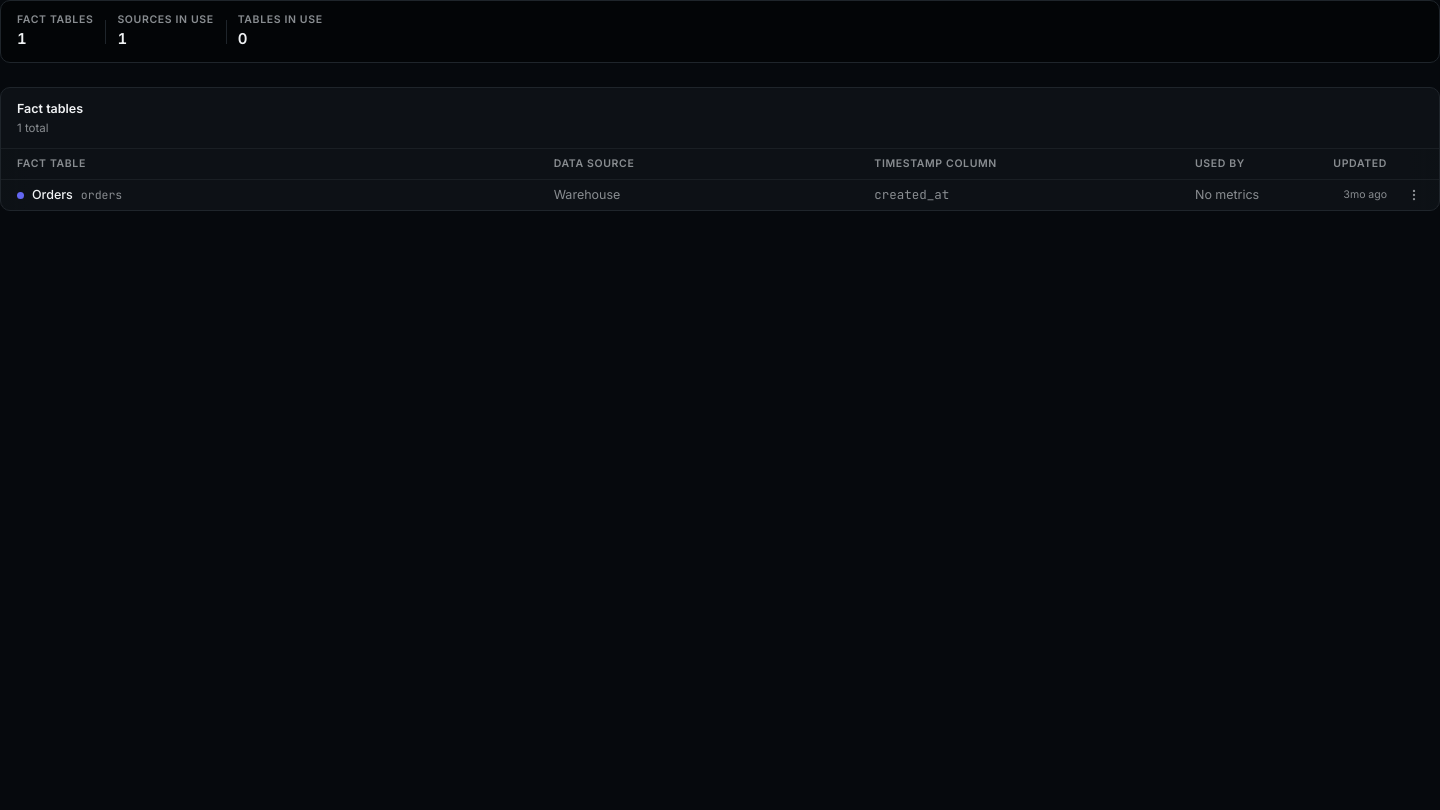
Test: FactTablesList rows (MT-30) › deletes a table from its row menu after a confirm, without opening it
Press Enter in the button named "Actions for Orders", box [1405, 186, 1423, 204]
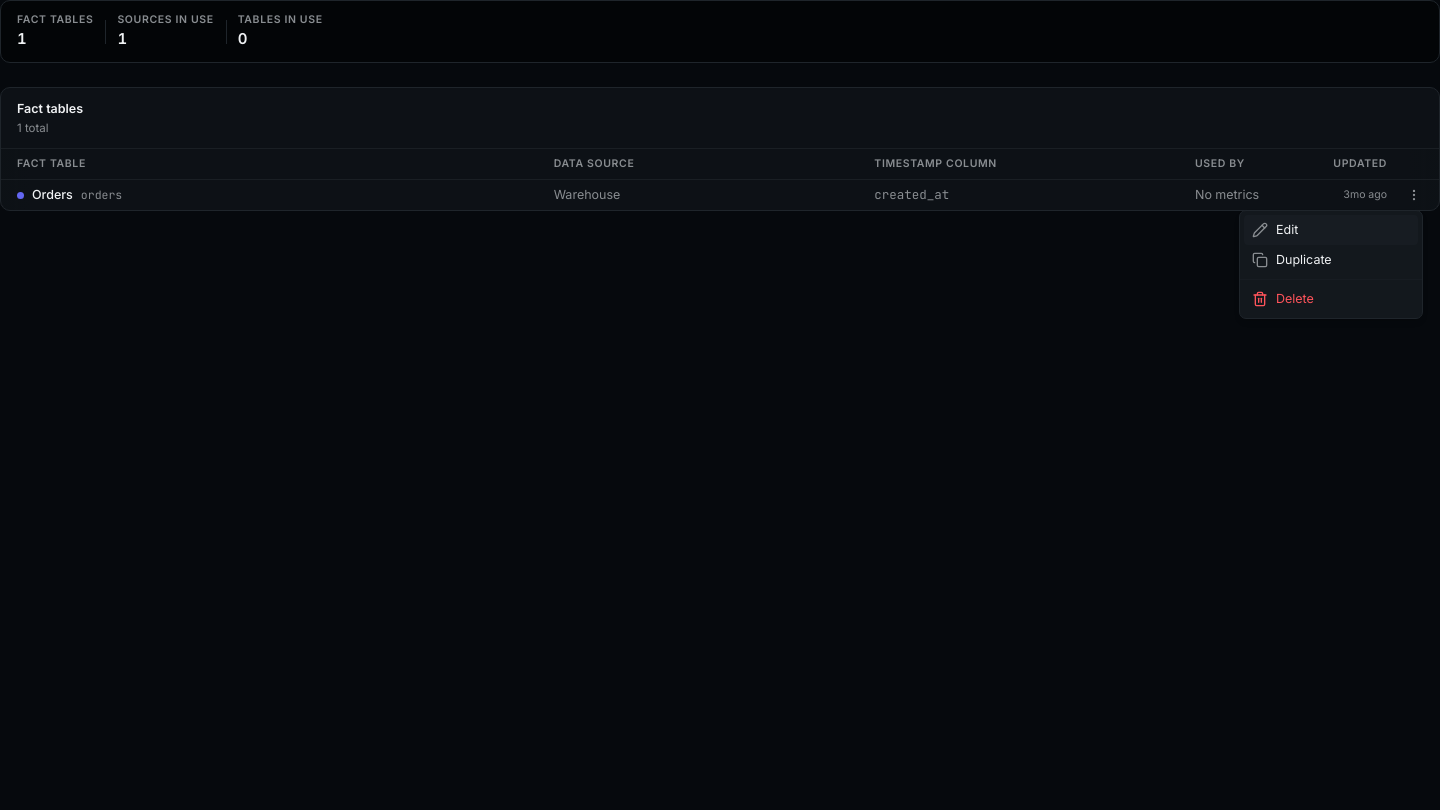
Check: the menu item "Edit" is shown, box [1244, 215, 1418, 245]
Click the menu item "Delete" at (1283, 299), box [1252, 291, 1314, 307]
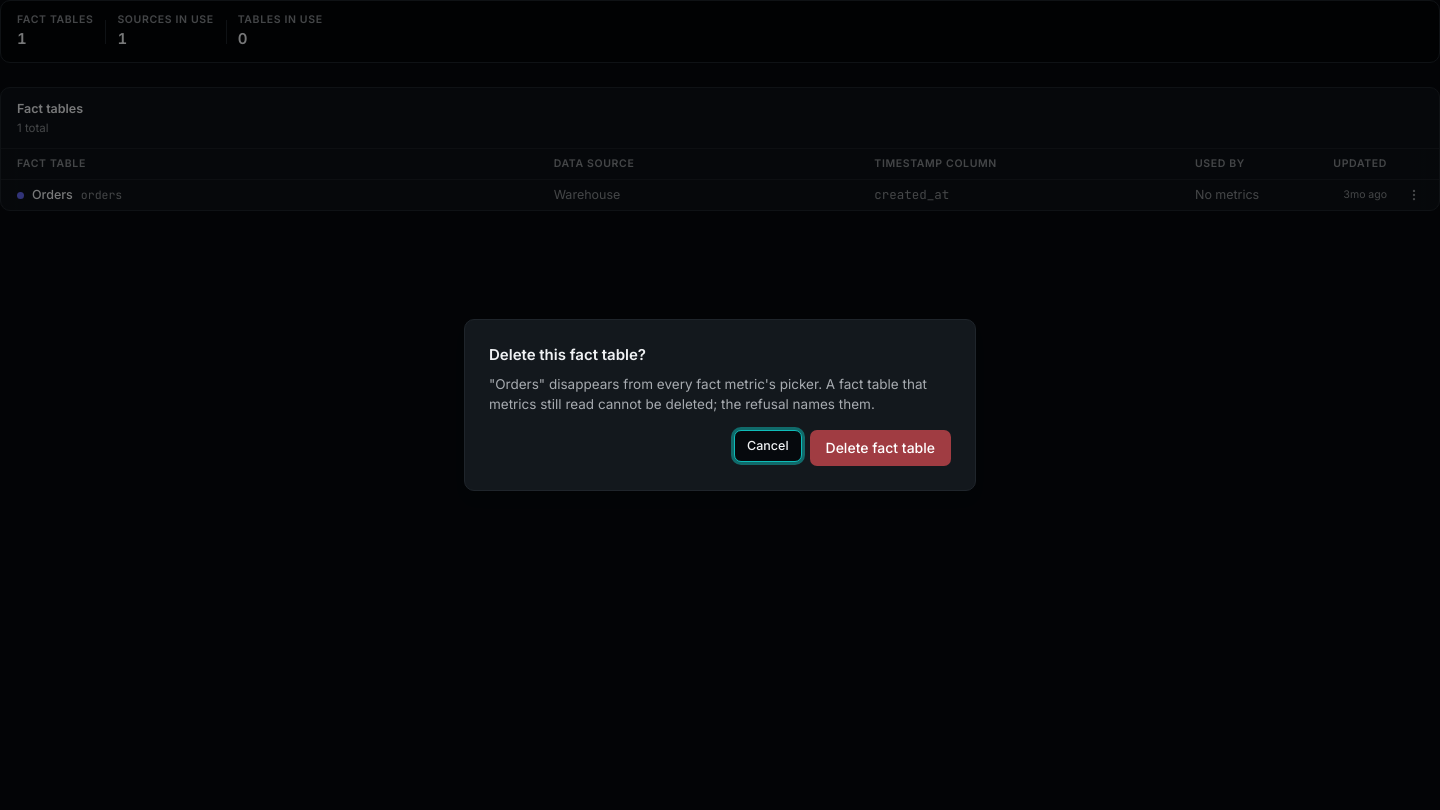
Click the button "Delete fact table" at (880, 448), box [810, 430, 951, 466]
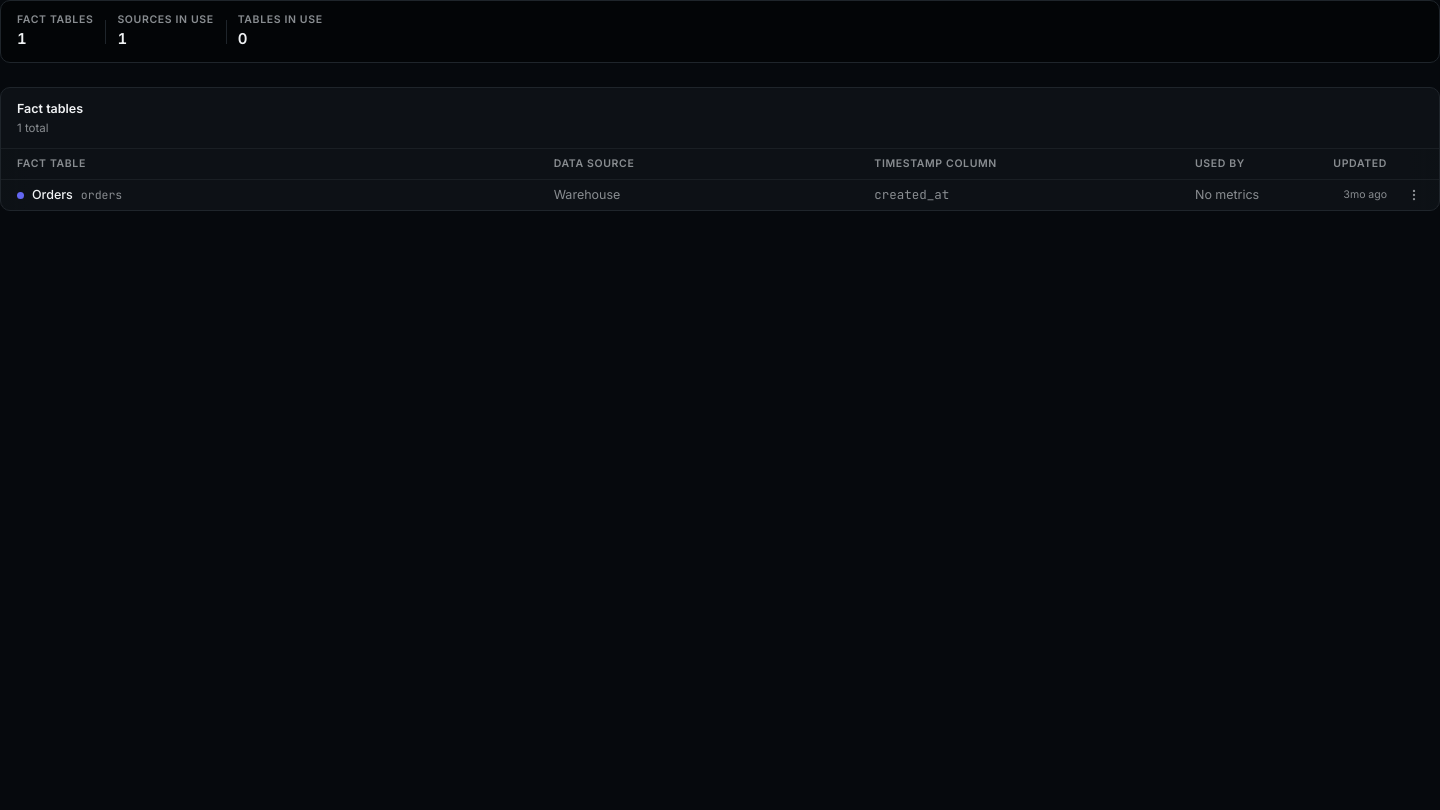
Check: the dialog is gone
